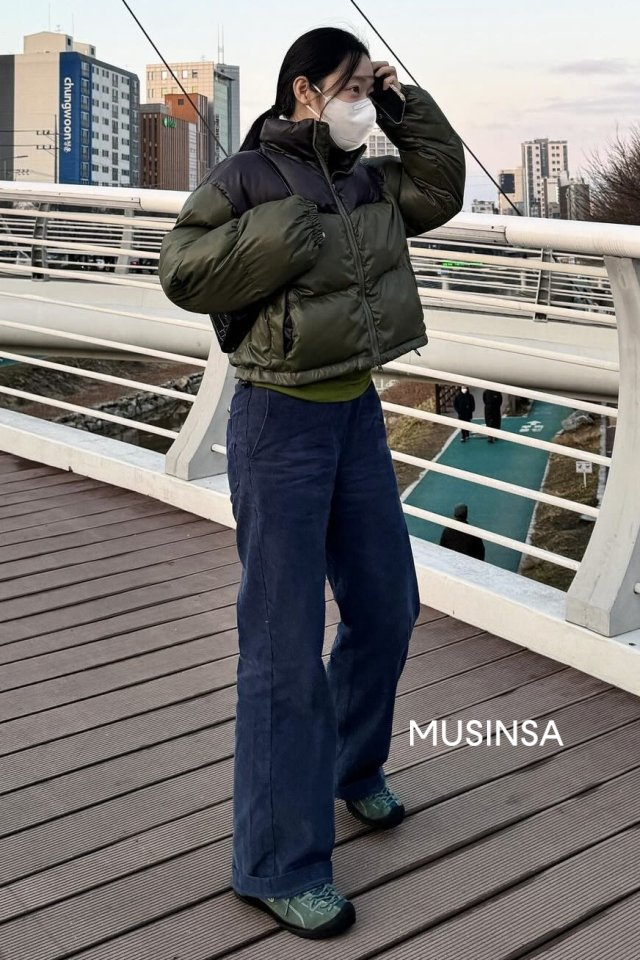Bubble jacket: (160, 116, 451, 371)
Mask: (317, 94, 384, 149)
Pants: (226, 364, 405, 891)
Shoes: (241, 767, 416, 939)
